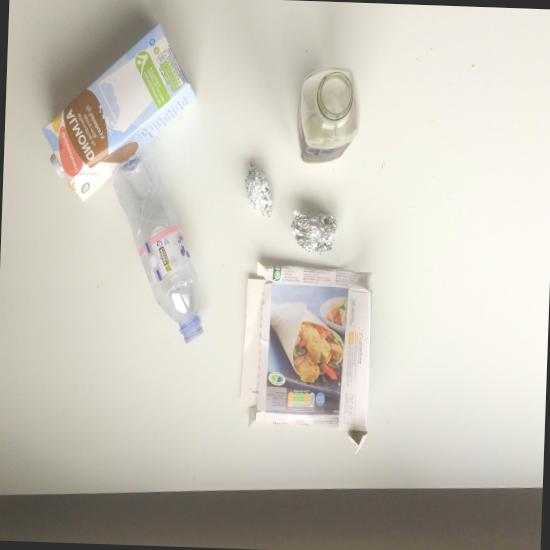Aluminium foil: (290, 211, 338, 254), (245, 163, 273, 218)
Clear plastic bottle: (111, 151, 204, 344), (297, 68, 360, 164)
Drink carton: (42, 22, 197, 202)
Other carton: (241, 262, 372, 454)
